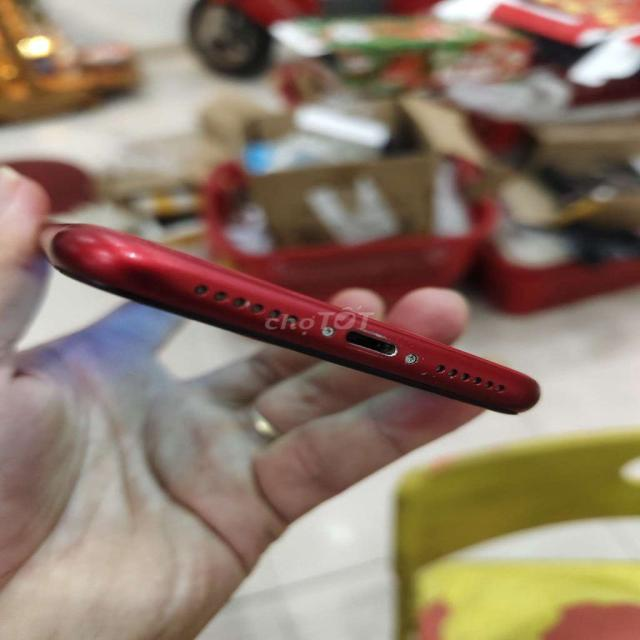scratch: (282, 292, 337, 344), (390, 331, 430, 380)
